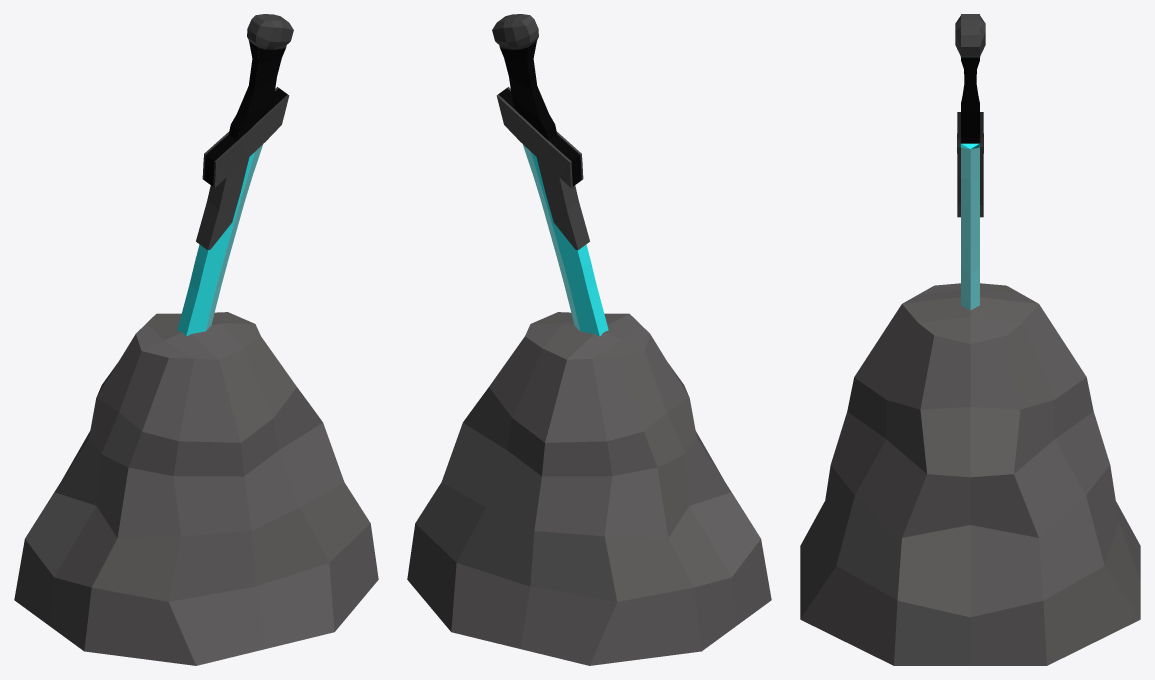
Rendered from project2_sword_in_stone.fbx.
The picture shows the model from 3 angles, left to right: view 1: azimuth 30°, elevation 25°; view 2: azimuth 150°, elevation 25°; view 3: azimuth 270°, elevation 25°; orthographic projection. The views are drawn at different scales.
Visible parts, largest first — view 1: Stone, Sword; view 2: Stone, Sword; view 3: Stone, Sword.
Part boxes in pixels (left/top/right/bottom): Stone: left=14, top=312, right=378, bottom=665; Sword: left=177, top=14, right=293, bottom=336; Stone: left=407, top=312, right=771, bottom=665; Sword: left=492, top=14, right=608, bottom=336; Stone: left=800, top=283, right=1140, bottom=665; Sword: left=955, top=14, right=985, bottom=310.
Bounding box in the file's own units: 108 × 194 × 98.72.
2 materials, 2 textured.
